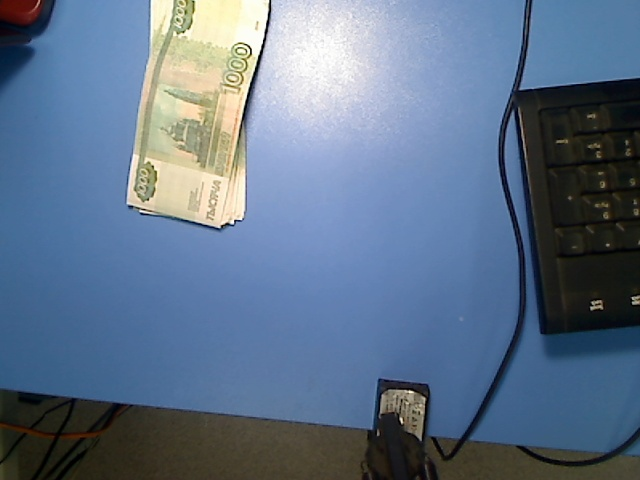banknotes: (125, 1, 273, 231)
